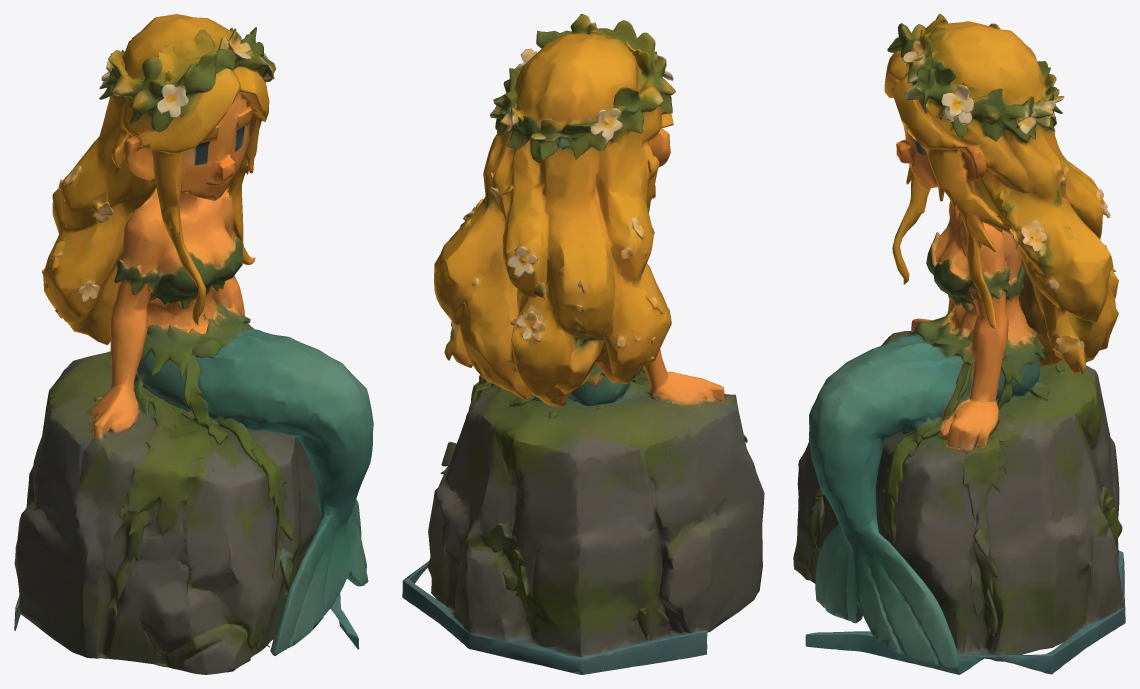
The model's file is mermaid.glb.
3 views of the same model, side by side, from view 1: azimuth 30°, elevation 25°; view 2: azimuth 150°, elevation 25°; view 3: azimuth 270°, elevation 25° (orthographic). The views are drawn at different scales.
Parts seen in each view (by area): view 1: tripo_node_dc6011b5-0b00-4c51-a25d-01cb726bdd63; view 2: tripo_node_dc6011b5-0b00-4c51-a25d-01cb726bdd63; view 3: tripo_node_dc6011b5-0b00-4c51-a25d-01cb726bdd63.
Boxes of the visible parts, <box> form: tripo_node_dc6011b5-0b00-4c51-a25d-01cb726bdd63: <box>14,14,373,674</box>; tripo_node_dc6011b5-0b00-4c51-a25d-01cb726bdd63: <box>402,14,764,674</box>; tripo_node_dc6011b5-0b00-4c51-a25d-01cb726bdd63: <box>793,14,1125,674</box>.
Bounding box in the file's own units: 0.5382 × 1 × 0.5178.
Materials: 1 (1 with a texture image).
